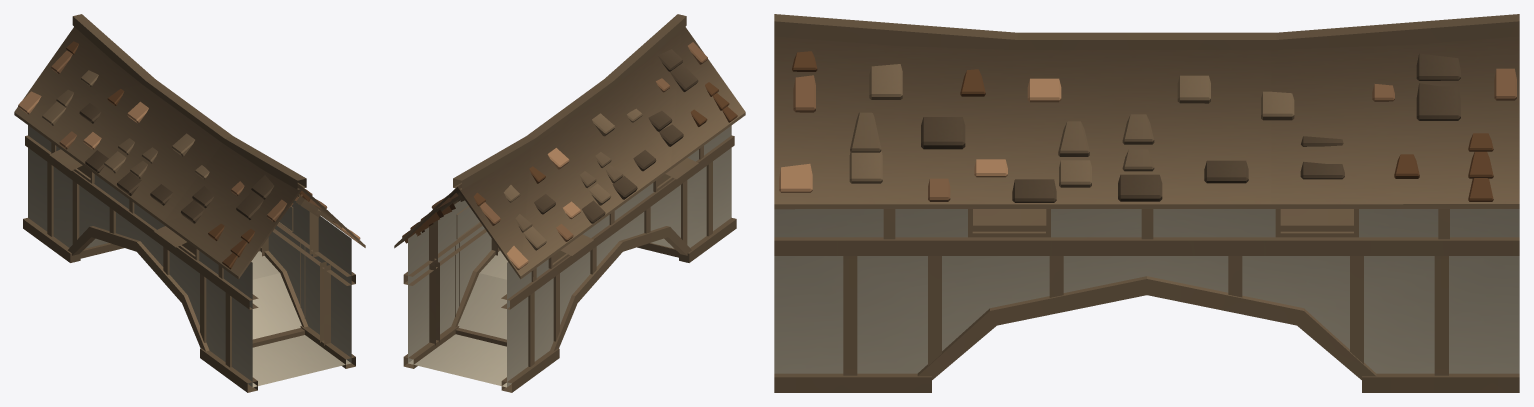
File: ZLP_Build_A_17.FBX
3 views of the same model, side by side, from view 1: azimuth 30°, elevation 25°; view 2: azimuth 150°, elevation 25°; view 3: azimuth 270°, elevation 25° (orthographic). The views are drawn at different scales.
Parts seen in each view (by area): view 1: ZLP_Build_A_17; view 2: ZLP_Build_A_17; view 3: ZLP_Build_A_17.
Boxes of the visible parts, <box> form: ZLP_Build_A_17: <box>14,14,365,392</box>; ZLP_Build_A_17: <box>394,14,745,392</box>; ZLP_Build_A_17: <box>774,14,1519,392</box>.
Size of the model in its own units: 277 by 372 by 757.
